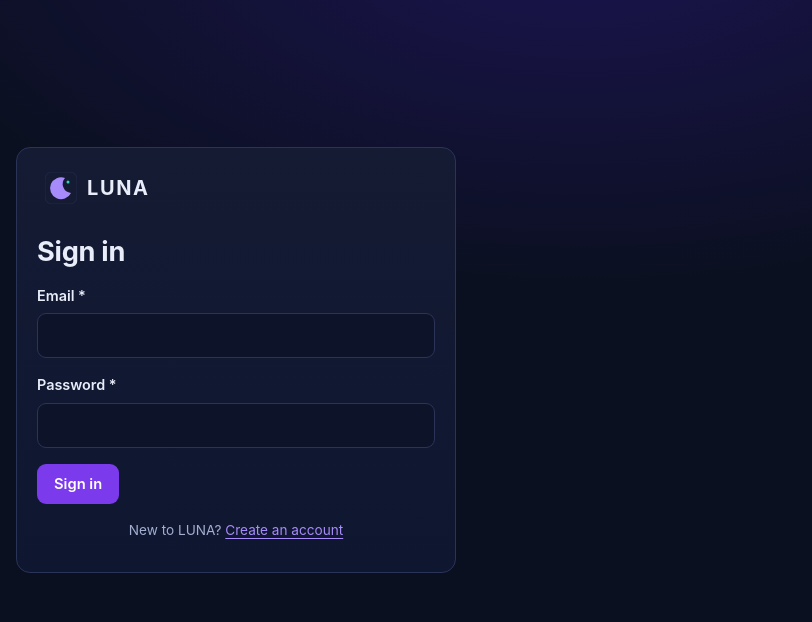
it: Login form › shows the server error for bad credentials
In the field labelled "Email *": (236,336) [37,313,435,358], type "a@b.co"
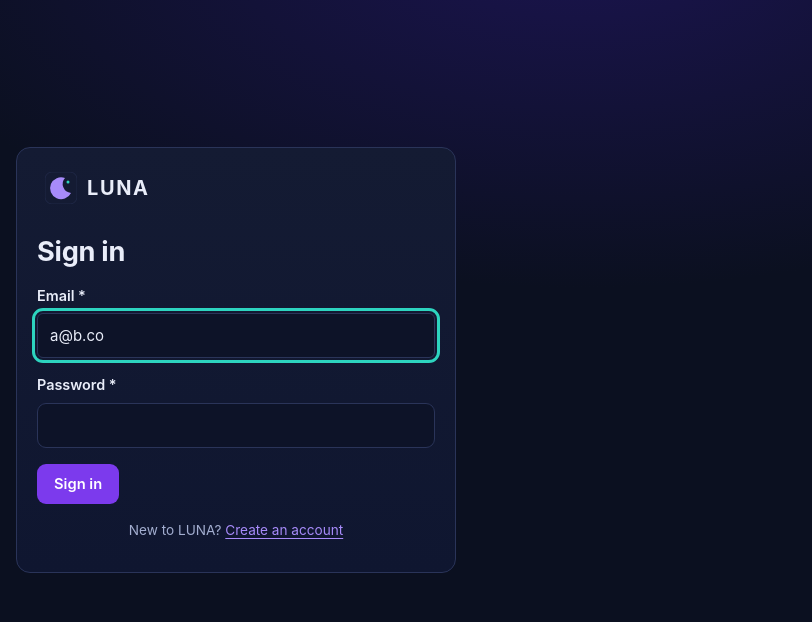
In the password field labelled "Password *": (236,425) [37,403,435,448], type "wrong"
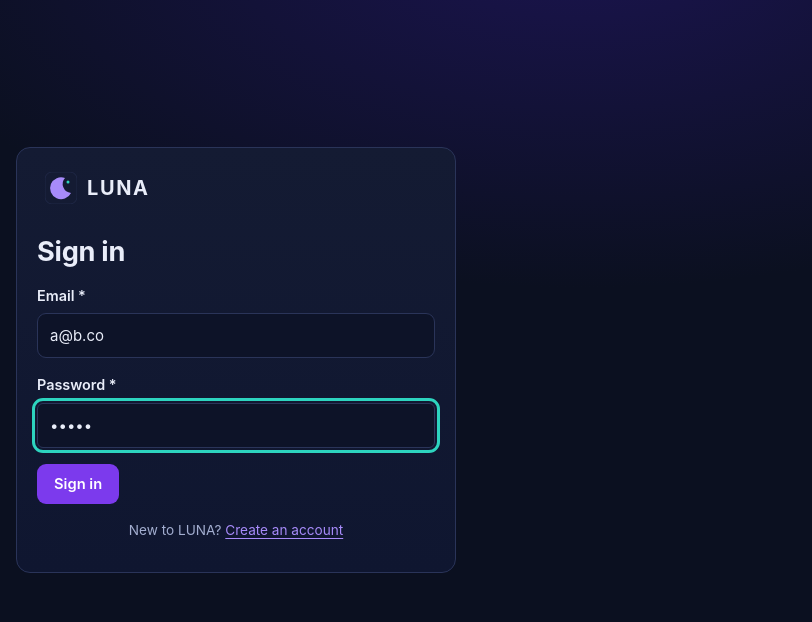
Click the button "Sign in": (78,484) [37,464,119,504]
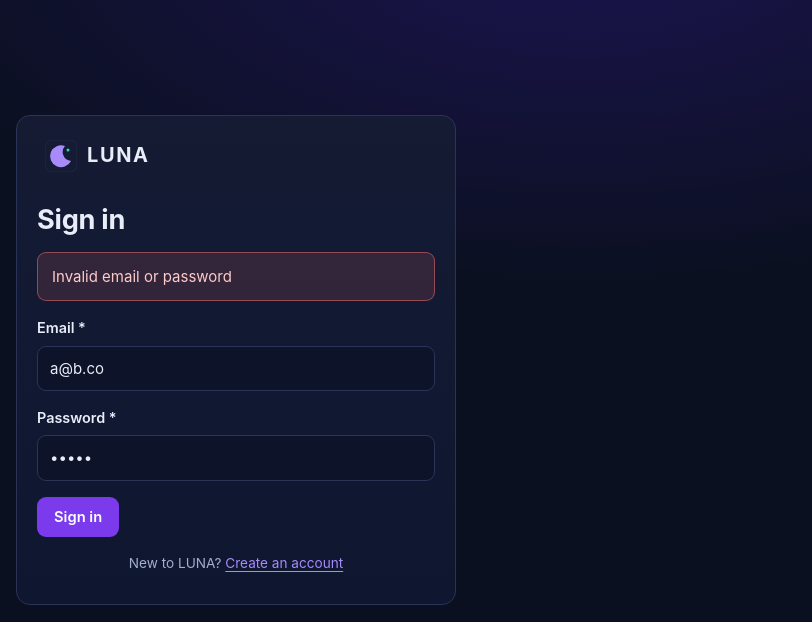
expect the message reads "Invalid email or password": met, box [52,267,232,286]
